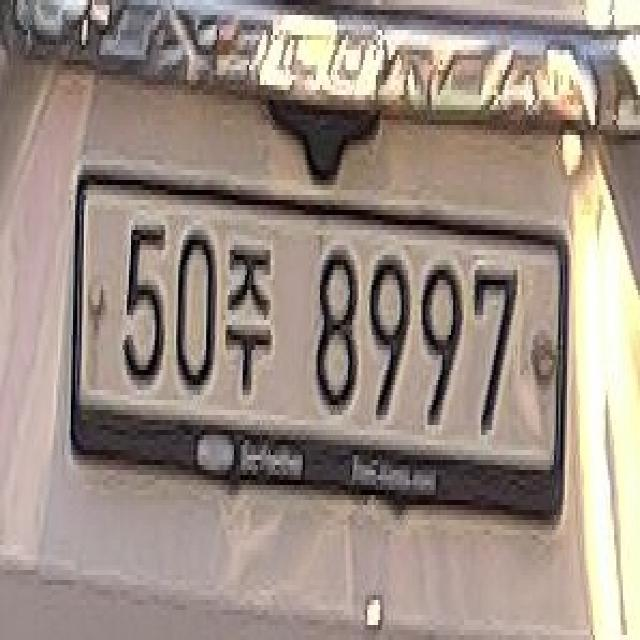0: (172, 215, 222, 406)
5: (120, 213, 170, 401)
7: (473, 258, 526, 448)
8: (310, 233, 363, 424)
9: (419, 253, 466, 439), (367, 239, 411, 429)
ju: (225, 232, 278, 406)
license_plate: (68, 170, 581, 500)
